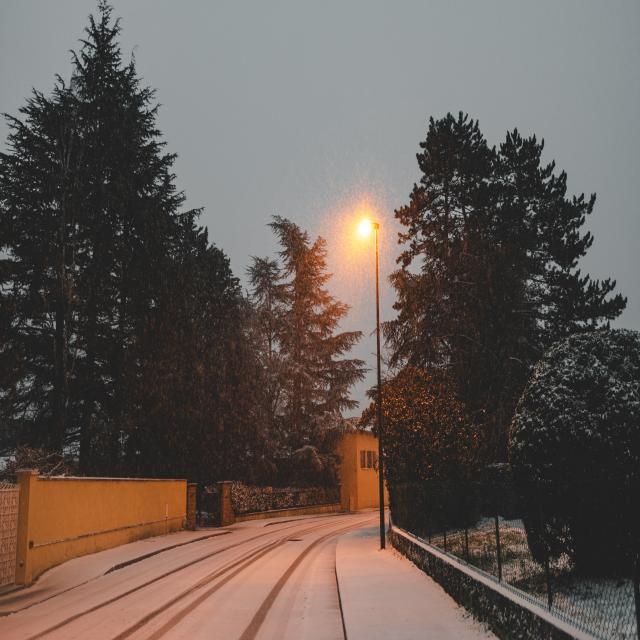Street Light: (356, 220, 386, 549)
